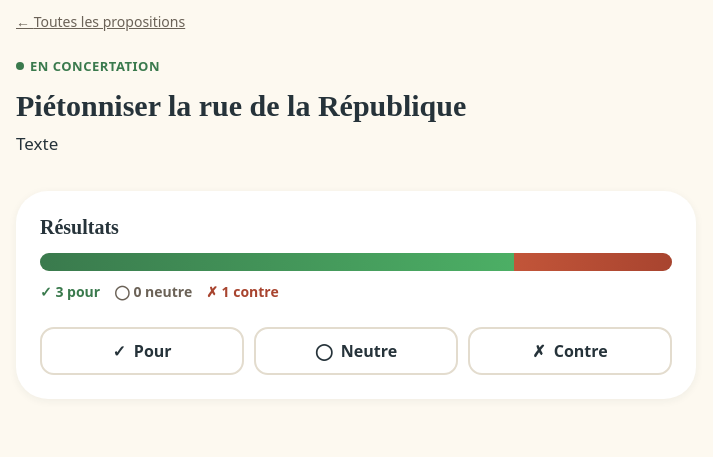
Test: PropositionDetail › S5R2-08 : une erreur de vote s'affiche sous les boutons (elle était invisible)
This screenshot has width=713, height=457.
What coordinates should you click on to do the following:
click the button "✓ Pour"
I would click on:
 (142, 352)
Its box is top-left (40, 328), bottom-right (244, 376).
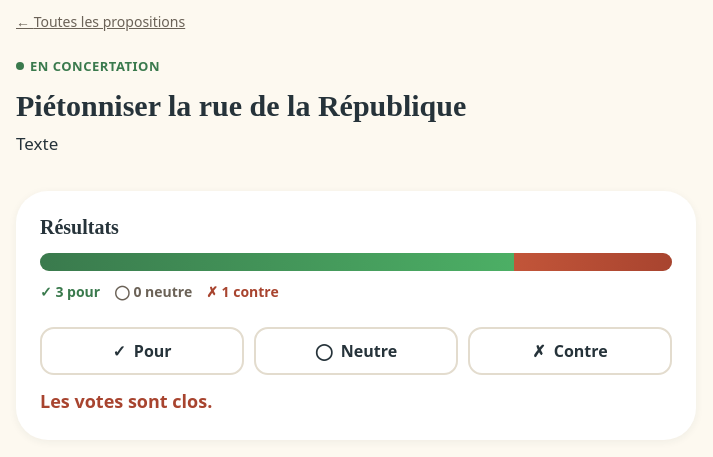
Expected: the message reads "Les votes sont clos.", top-left (40, 390), bottom-right (212, 414)
